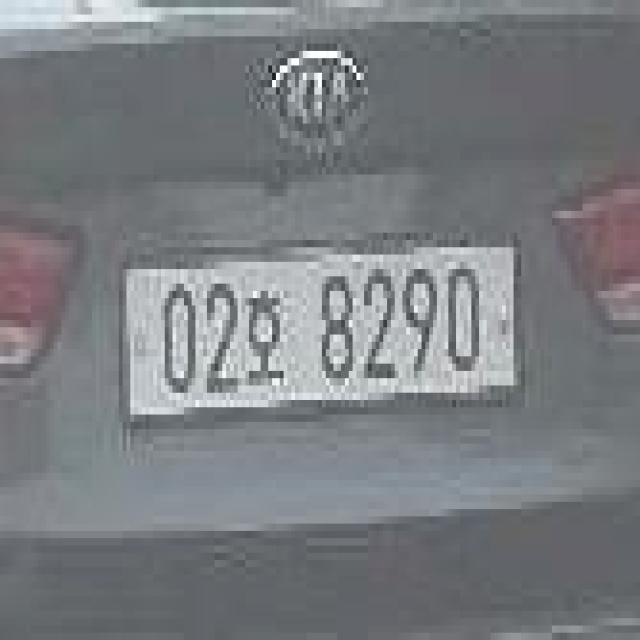illegal_plate: (118, 233, 524, 425)
